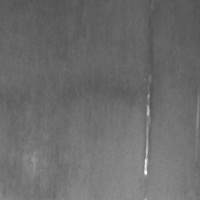scratches: (141, 71, 154, 178)
